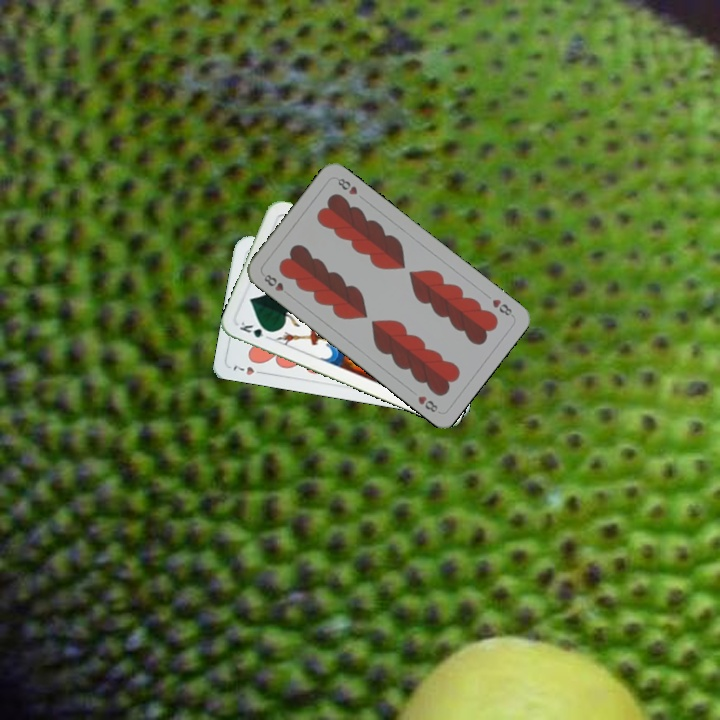GK: (235, 317, 275, 342)
H7: (229, 361, 268, 378)
H8: (258, 270, 293, 299), (488, 295, 516, 319)
